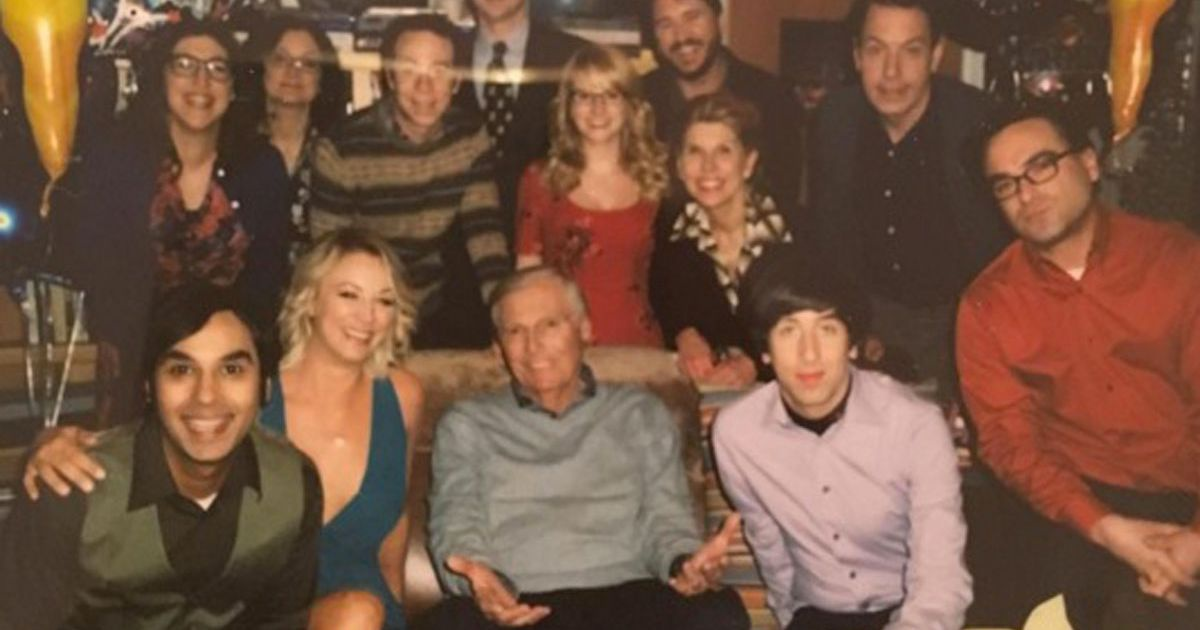bad: (151, 343, 259, 450), (852, 26, 942, 116), (315, 265, 404, 355), (982, 146, 1071, 236), (763, 315, 852, 405), (162, 47, 237, 121), (681, 135, 743, 198), (653, 4, 716, 66), (573, 84, 625, 136)
